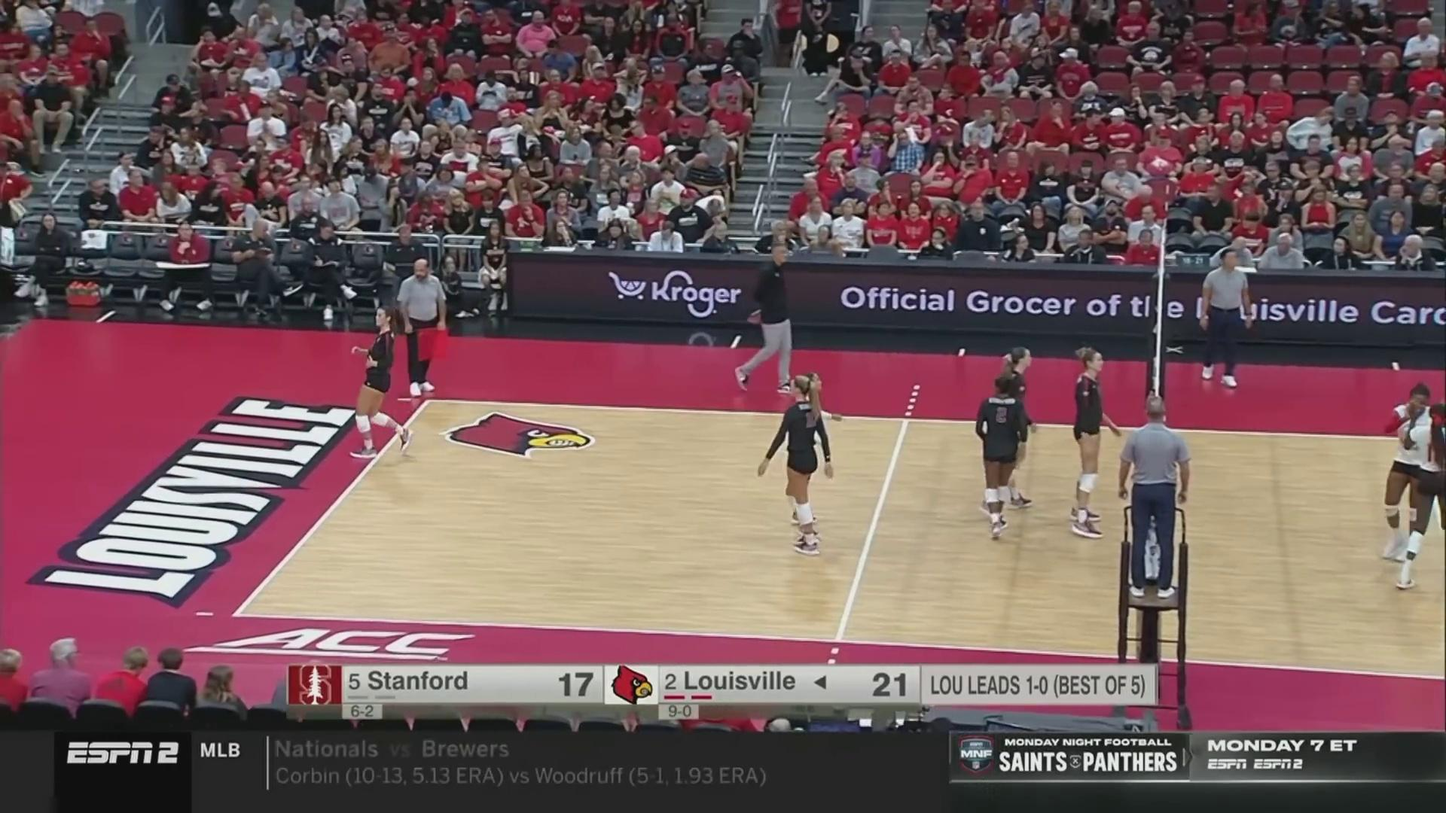player: (758, 378, 834, 554), (1386, 385, 1446, 562), (354, 303, 416, 458), (974, 378, 1030, 539), (1072, 344, 1118, 540), (1400, 402, 1446, 586), (992, 343, 1041, 512), (791, 366, 840, 525)
refree: (1122, 394, 1192, 599), (1197, 252, 1257, 391), (399, 258, 447, 397)
